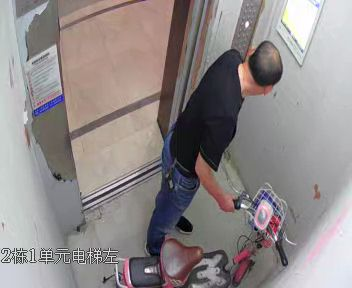Electric-bicycle: (100, 180, 298, 288)
